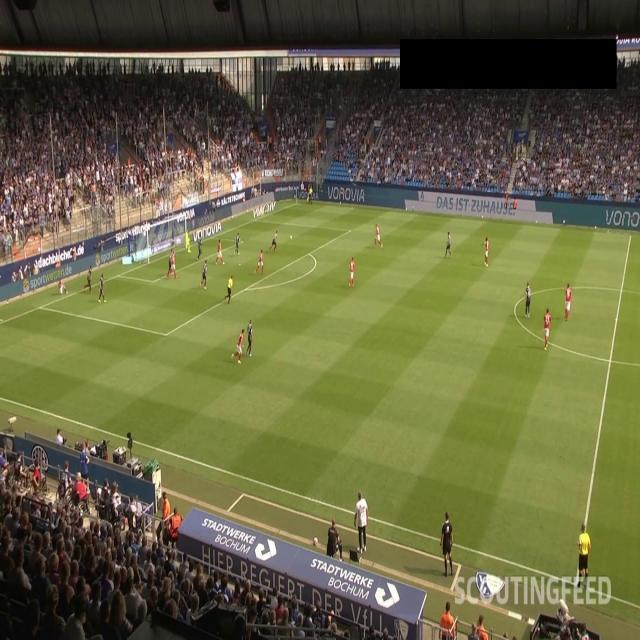ball: (289, 234, 293, 241)
player: (231, 329, 244, 363), (543, 307, 552, 351), (83, 265, 95, 296), (245, 319, 254, 358), (564, 282, 572, 323), (199, 260, 209, 291), (254, 248, 265, 276), (167, 248, 177, 278), (216, 238, 226, 266), (524, 280, 531, 320), (444, 230, 453, 260), (348, 256, 356, 289), (98, 273, 106, 305), (481, 236, 489, 268), (374, 223, 383, 249), (268, 230, 278, 253), (169, 250, 177, 278), (234, 232, 242, 256), (58, 278, 68, 296), (196, 236, 202, 262), (185, 229, 191, 253)
